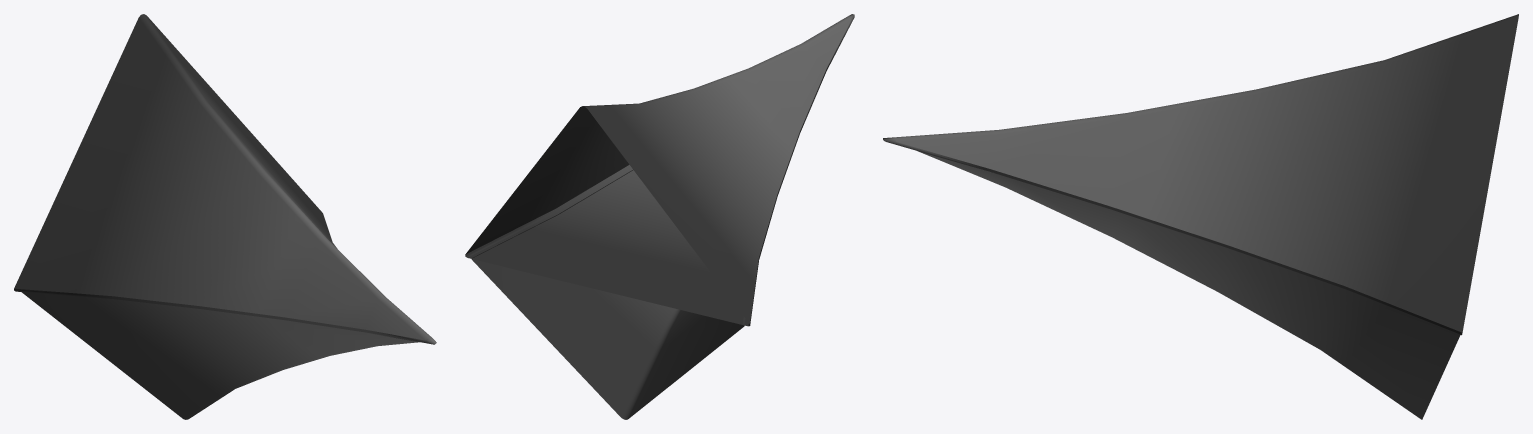
The model's file is Beak10.fbx.
3 views of the same model, side by side, from view 1: azimuth 30°, elevation 25°; view 2: azimuth 150°, elevation 25°; view 3: azimuth 270°, elevation 25° (orthographic). The views are drawn at different scales.
Parts seen in each view (by area): view 1: Beak10; view 2: Beak10; view 3: Beak10.
Boxes of the visible parts, box(x1,y1,x2,y2) form: Beak10: box(14, 14, 436, 419); Beak10: box(465, 14, 854, 419); Beak10: box(883, 14, 1518, 419).
Bounding box in the file's own units: 10.81 × 17.74 × 12.45.
Materials: 1 (1 with a texture image).
